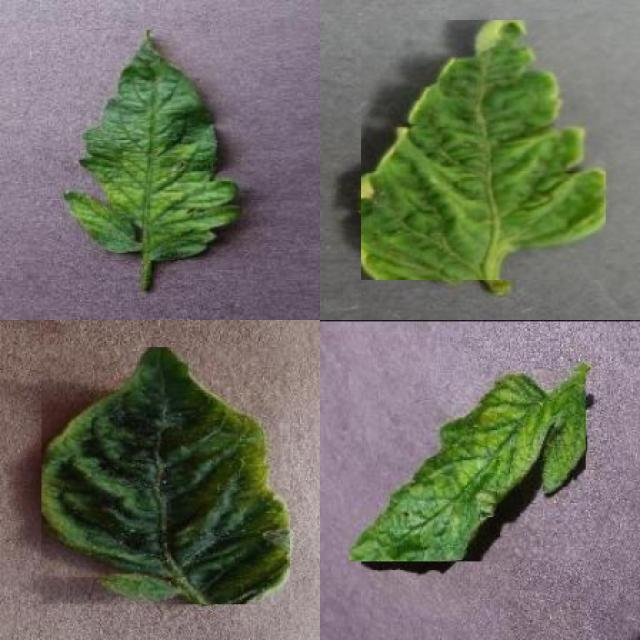Mosaic Virus: (348, 372, 586, 562), (62, 28, 242, 262)
Yellow Leaf Curl Virus: (42, 347, 291, 604), (360, 21, 606, 280)
